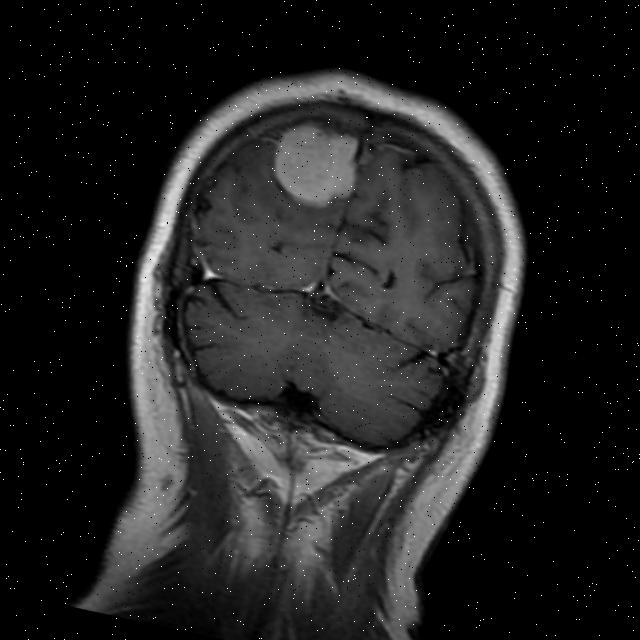Meningioma: (264, 111, 364, 217)
